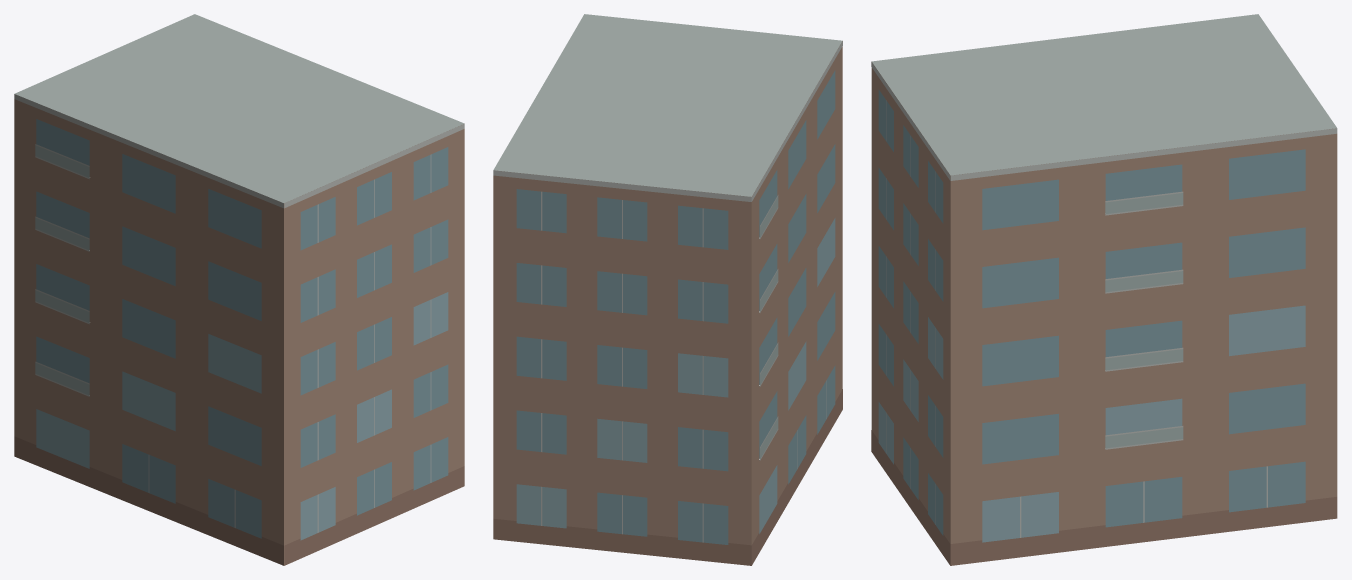
Rendered from survey-upis-32850741.glb.
3 renders of one model, left to right at view 1: azimuth 30°, elevation 25°; view 2: azimuth 150°, elevation 25°; view 3: azimuth 270°, elevation 25°, orthographic. The views are drawn at different scales.
Parts seen in each view (by area): view 1: survey-upis-32850741.tmp; view 2: survey-upis-32850741.tmp; view 3: survey-upis-32850741.tmp.
Boxes of the visible parts, x1,y1,x2,y2 form: survey-upis-32850741.tmp: [14, 14, 464, 565]; survey-upis-32850741.tmp: [493, 14, 842, 565]; survey-upis-32850741.tmp: [871, 14, 1337, 565].
Bounding box in the file's own units: 15.23 × 17.15 × 18.56.
